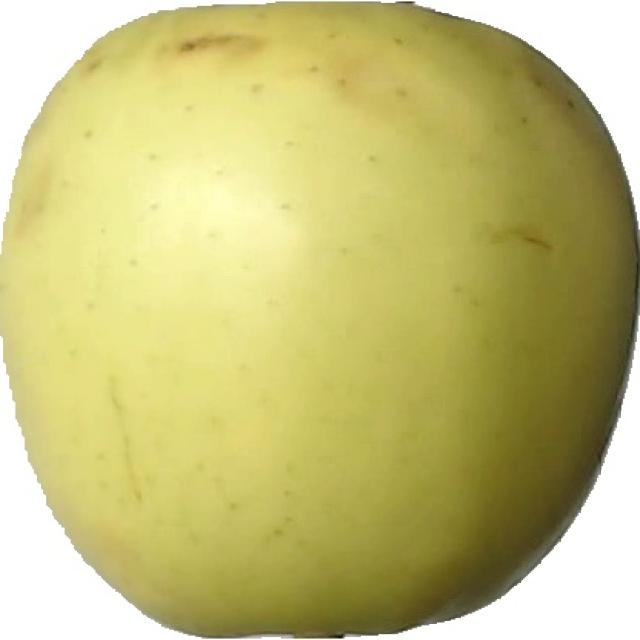Golden Elma: (3, 10, 640, 640)
